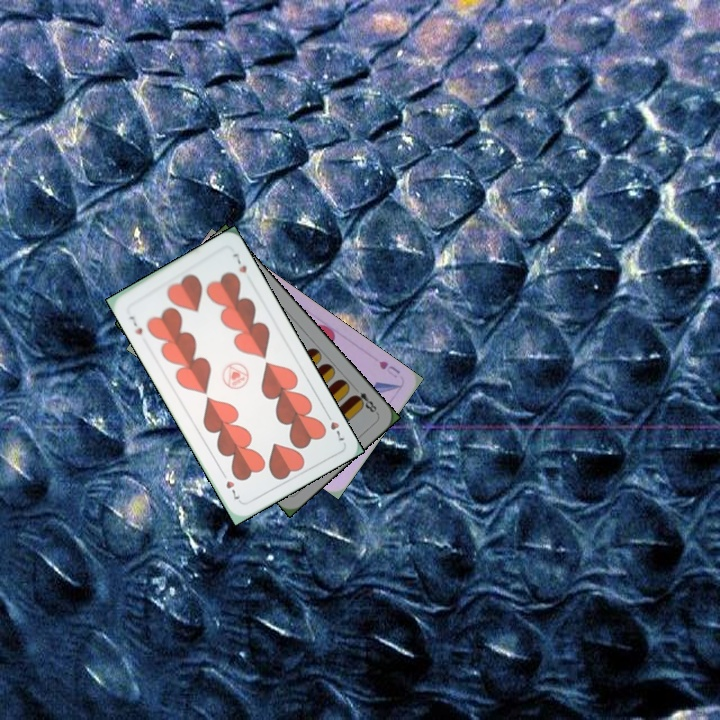E8: (349, 388, 380, 416)
H7: (322, 408, 347, 443), (125, 312, 145, 337)
HU: (375, 357, 403, 381)
